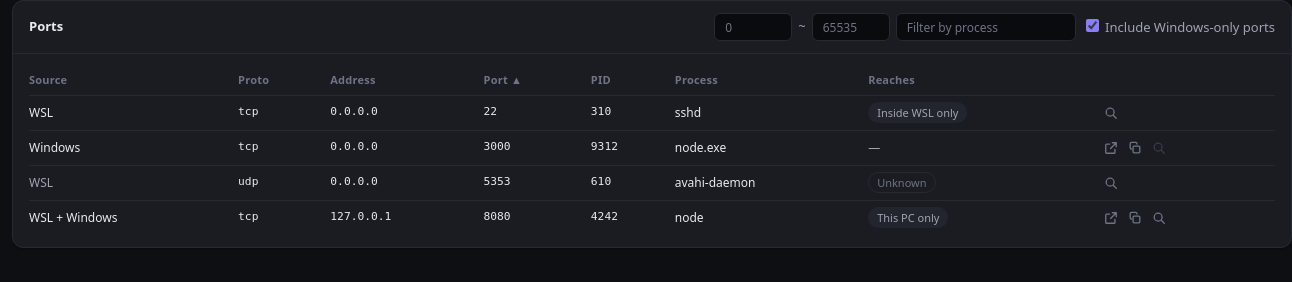
Scenario: PortsCard actions › hands a WSL pid to the processes card but disables it for Windows rows
What coordinates should you click on to do the following:
click the button named "Show process" in the row of "WSL + Windows"
I would click on:
 (1159, 218)
Its box is [1147,206,1171,230].
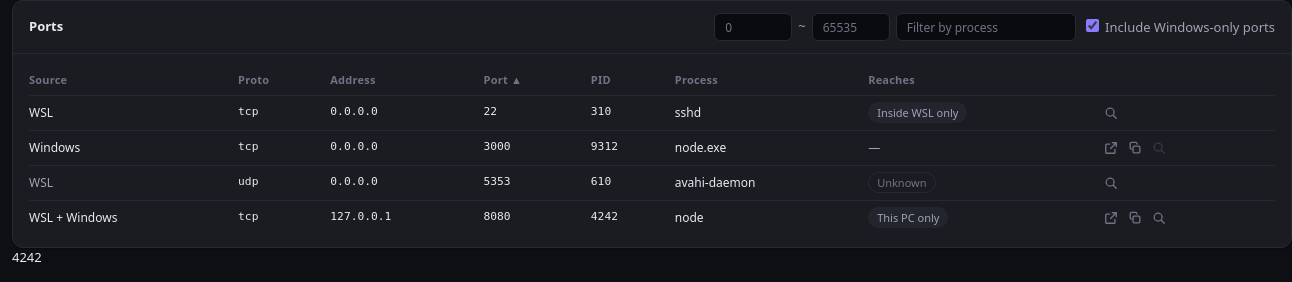
Expected: the button named "Show process" in the row of "3000" is disabled, [1147,136,1171,160]
Expected: the text with test id "focus-pid" reads "4242", [12,248,42,266]
